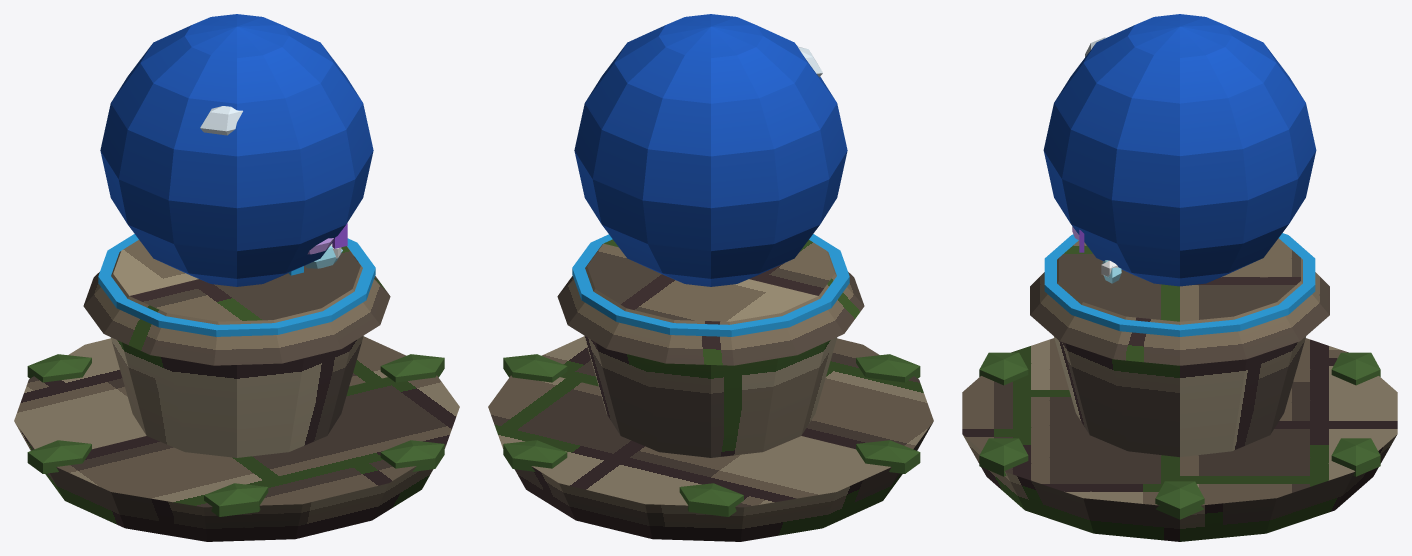
The model's file is orb_grand.glb.
3 renders of one model, left to right at view 1: azimuth 30°, elevation 25°; view 2: azimuth 150°, elevation 25°; view 3: azimuth 270°, elevation 25°, orthographic.
Parts seen in each view (by area): view 1: orb_grand; view 2: orb_grand; view 3: orb_grand.
Part boxes in pixels (bbox=[...]): orb_grand: bbox=[14, 14, 459, 541]; orb_grand: bbox=[488, 14, 933, 541]; orb_grand: bbox=[962, 14, 1397, 541].
Size of the model in its own units: 1.9 by 1.92 by 1.75.
3 materials, 1 textured.
